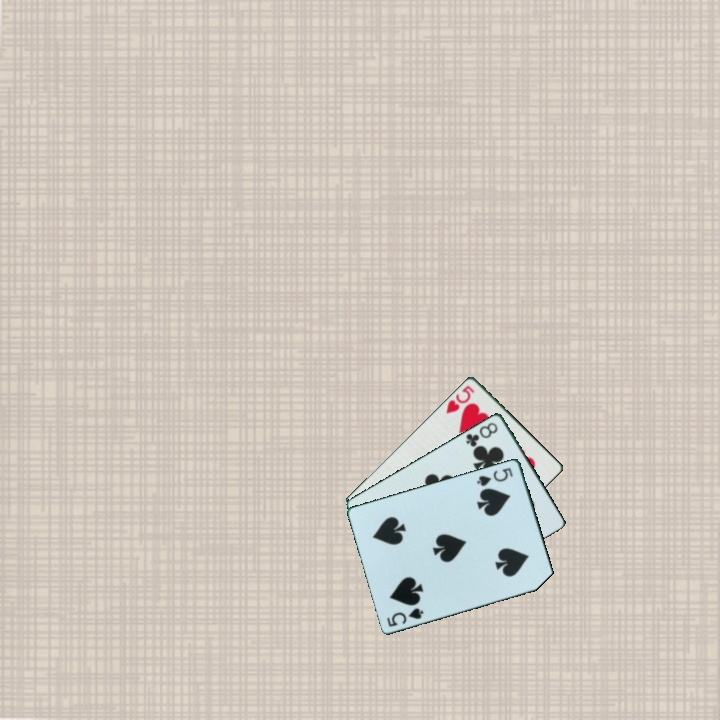5h: (443, 381, 477, 416)
5s: (383, 604, 427, 629), (473, 464, 516, 489)
8c: (462, 418, 501, 449)
